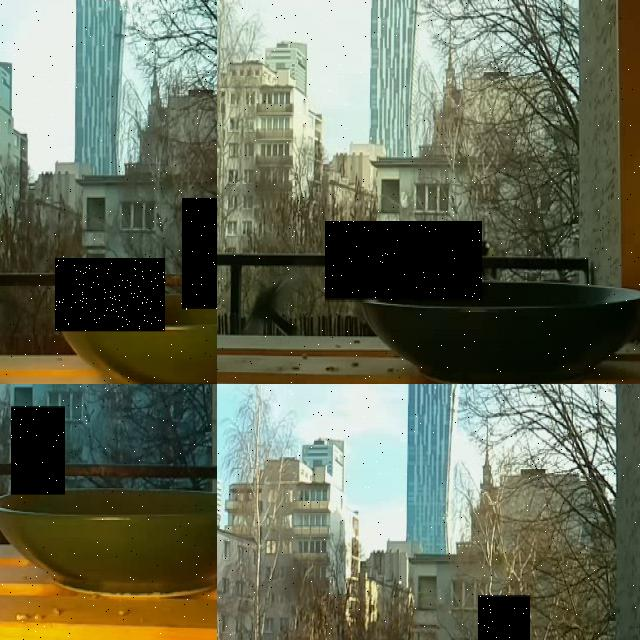Bogatka: (55, 258, 165, 331), (182, 198, 217, 308)
Modraszka: (11, 406, 65, 494), (478, 595, 530, 640)
Wrobel: (325, 222, 482, 302)
